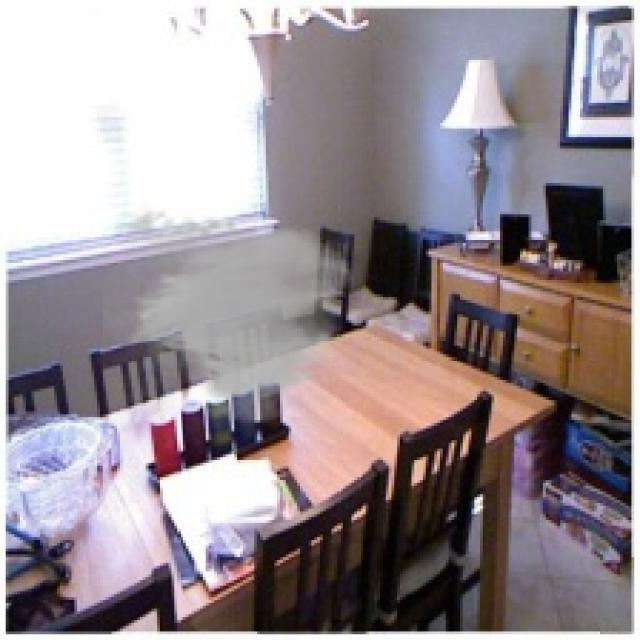Smoke: (102, 202, 358, 432)
